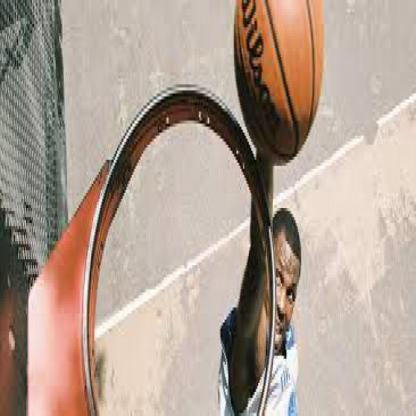basketball: (234, 0, 324, 169)
rim: (81, 84, 278, 413)
